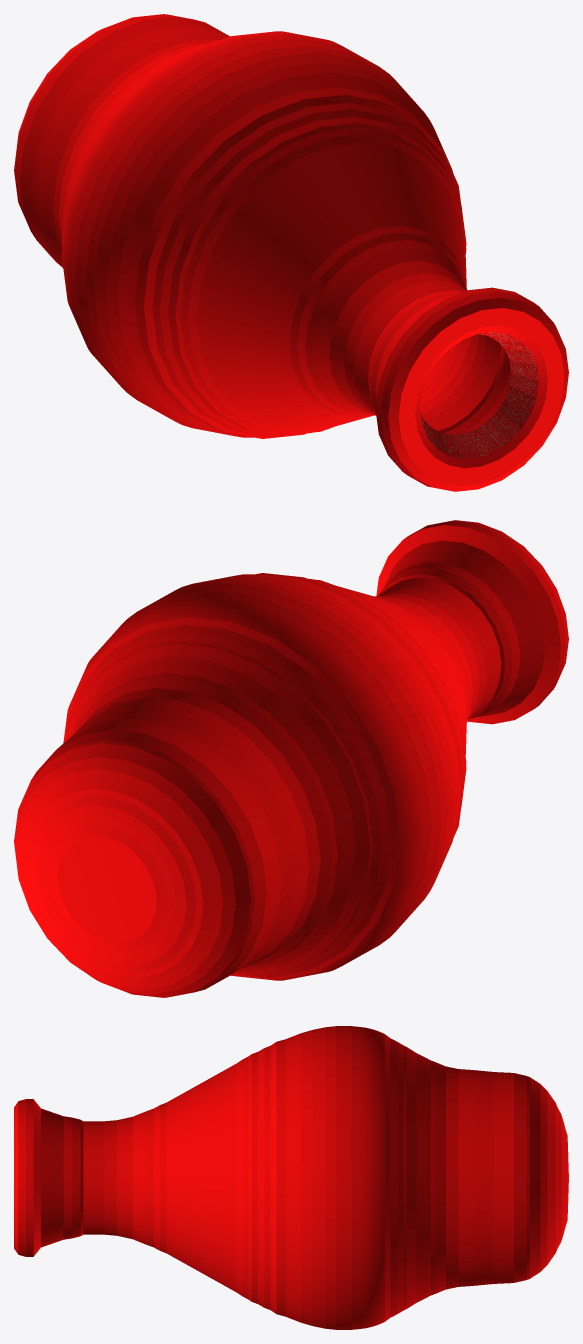
File: model_align.obj
3 renders of one model, top to bottom at view 1: azimuth 30°, elevation 25°; view 2: azimuth 150°, elevation 25°; view 3: azimuth 270°, elevation 25°, orthographic. The views are drawn at different scales.
Visible parts, largest first — view 1: mesh1_mesh1-geometry, mesh54_mesh54-geometry, mesh60_mesh60-geometry; view 2: mesh1_mesh1-geometry, mesh54_mesh54-geometry; view 3: mesh1_mesh1-geometry, mesh54_mesh54-geometry.
Boxes of the visible parts, bbox=[...] form: mesh1_mesh1-geometry: bbox=[14, 14, 511, 438]; mesh54_mesh54-geometry: bbox=[375, 287, 568, 491]; mesh60_mesh60-geometry: bbox=[420, 331, 538, 458]; mesh1_mesh1-geometry: bbox=[14, 525, 561, 997]; mesh54_mesh54-geometry: bbox=[404, 520, 568, 708]; mesh1_mesh1-geometry: bbox=[33, 1026, 568, 1329]; mesh54_mesh54-geometry: bbox=[14, 1099, 33, 1256].
Size of the model in its own units: 0.0947 by 0.0947 by 0.1723.
